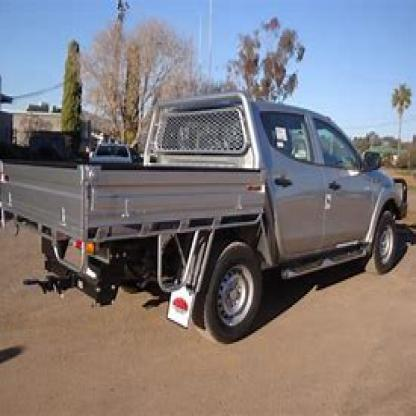light_vehicle: (6, 79, 415, 344)
